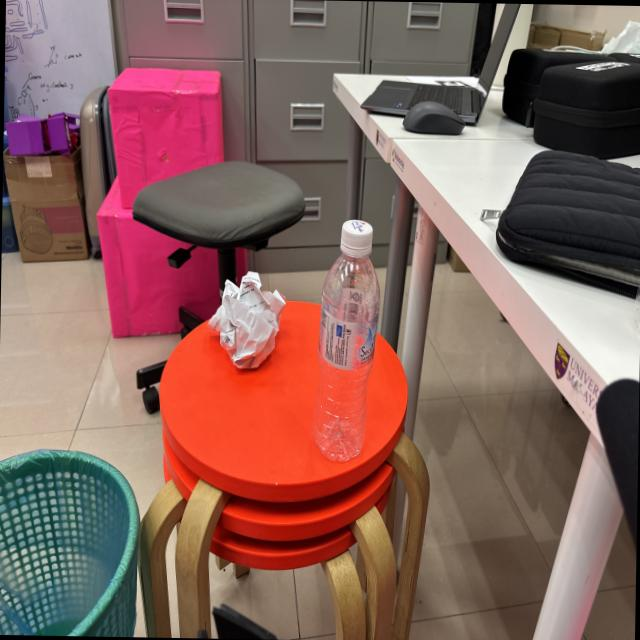crumpled_paper: (202, 264, 292, 382)
plastic_bottle: (308, 212, 386, 468)
